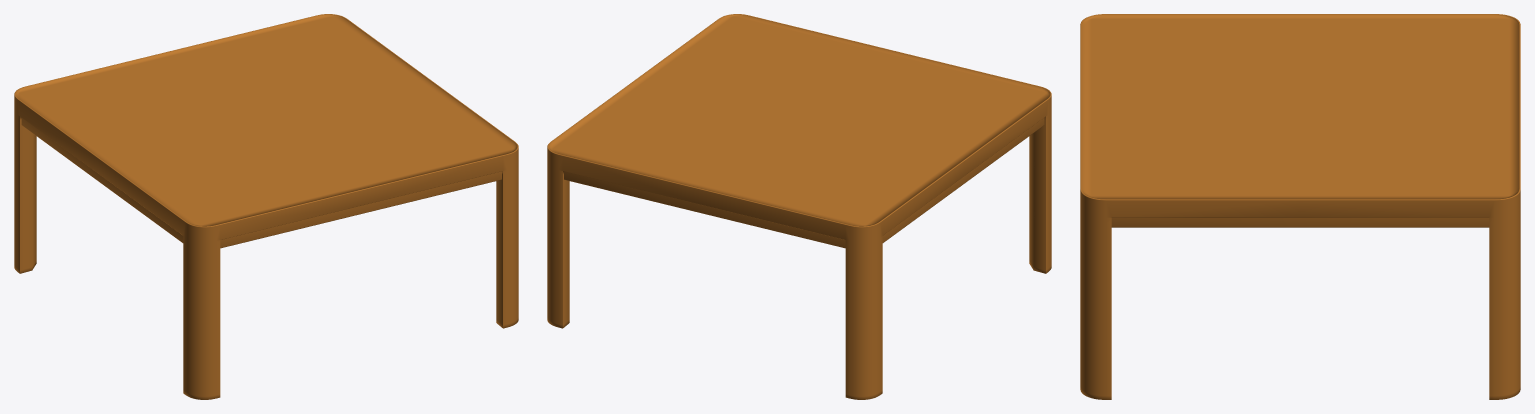
File: ModernTable.glb
3 renders of one model, left to right at view 1: azimuth 30°, elevation 25°; view 2: azimuth 150°, elevation 25°; view 3: azimuth 270°, elevation 25°, orthographic. The views are drawn at different scales.
Visible parts, largest first — view 1: Cube.001; view 2: Cube.001; view 3: Cube.001.
Boxes of the visible parts, left/top/right/bottom form: Cube.001: left=14, top=14, right=518, bottom=399; Cube.001: left=547, top=14, right=1051, bottom=399; Cube.001: left=1080, top=14, right=1520, bottom=399.
Size of the model in its own units: 5.54 by 2.78 by 5.54.
